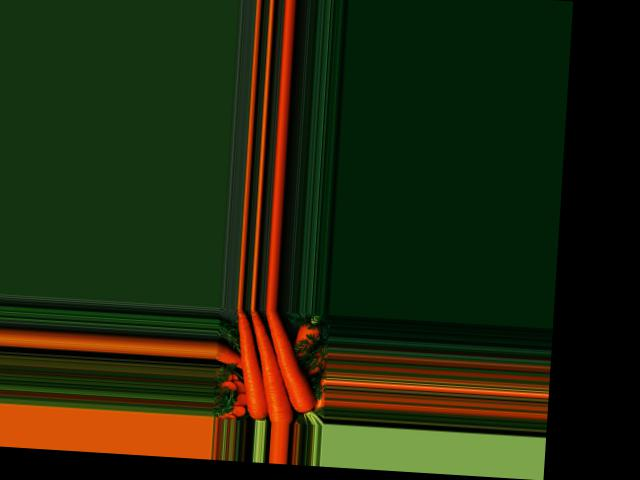carrot: (259, 312, 323, 412)
